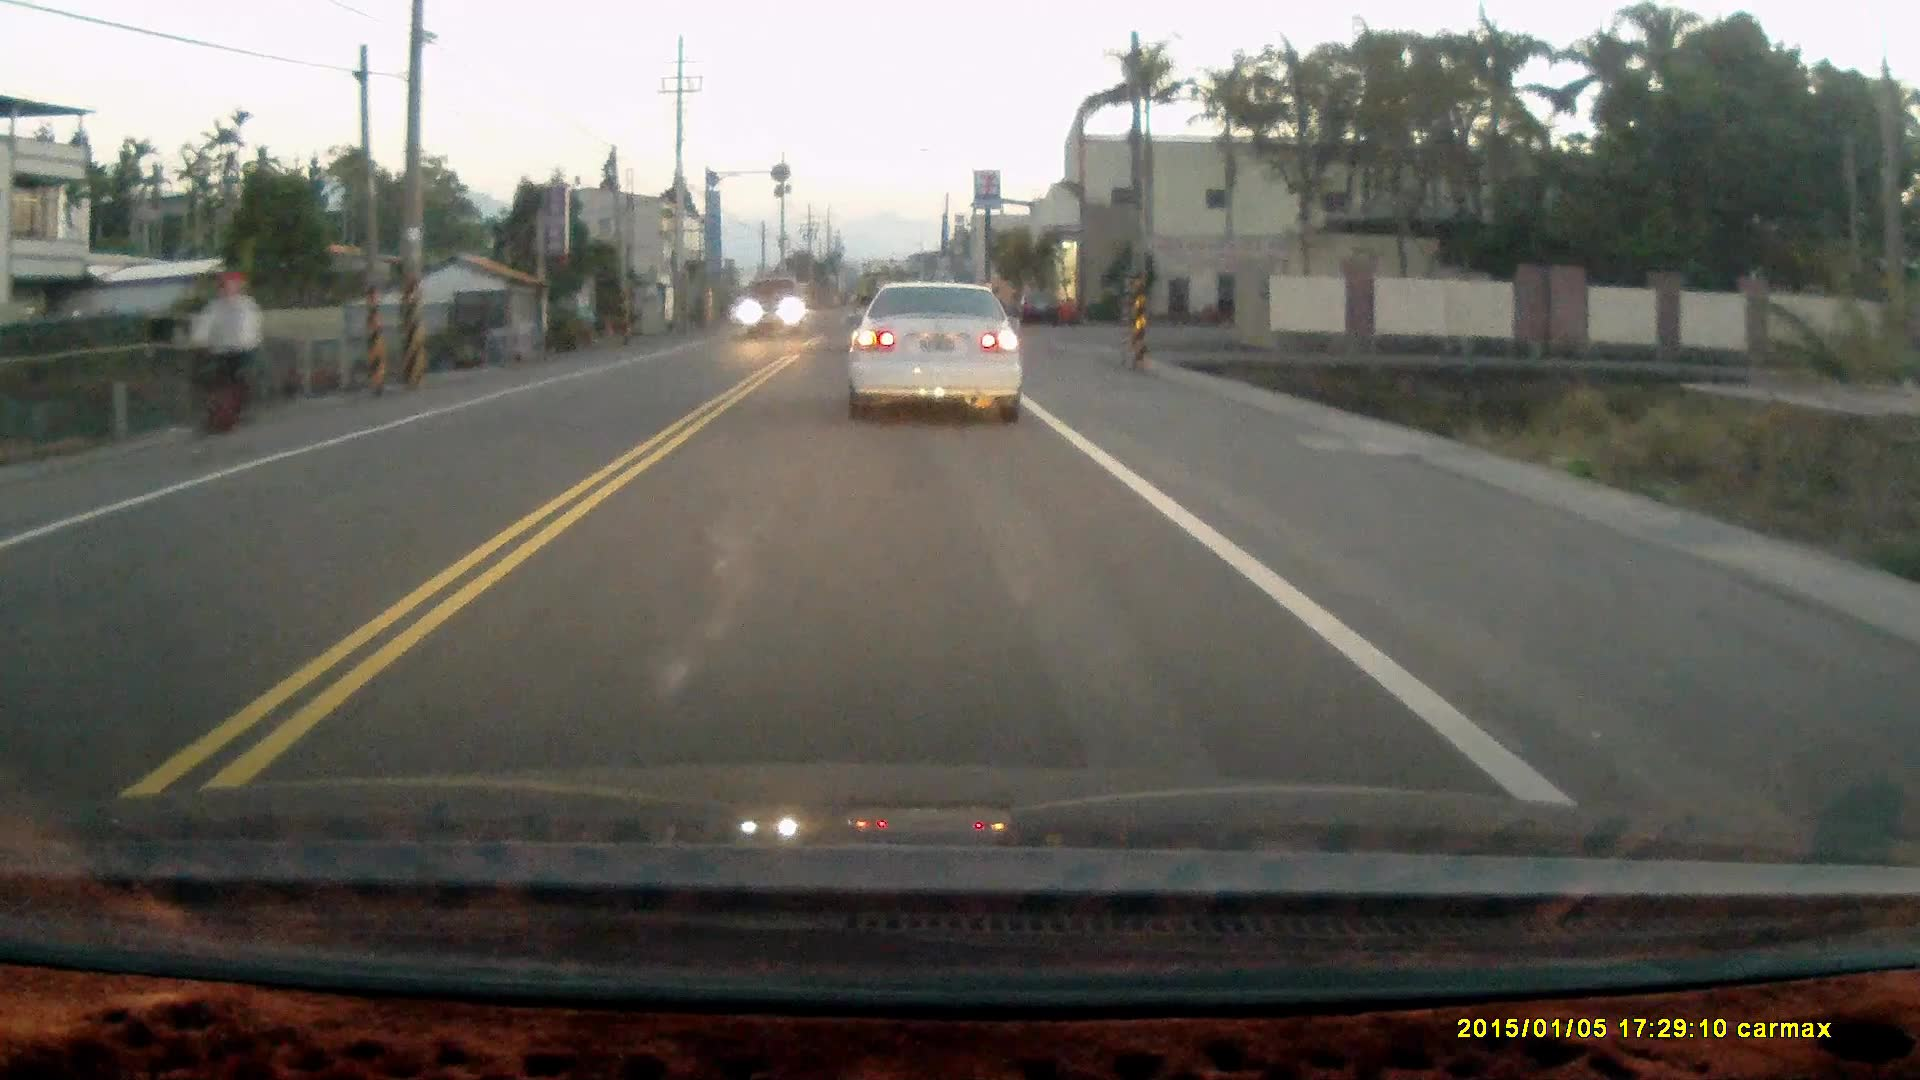rider: (169, 269, 266, 464)
vehicle: (848, 283, 1029, 423), (746, 276, 810, 337), (1013, 282, 1061, 323)
